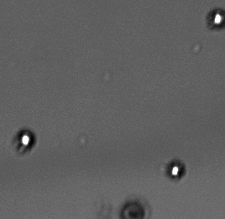Dead Cell: (120, 199, 150, 217)
Living Cell: (15, 127, 36, 154), (165, 158, 187, 180), (207, 6, 224, 31)
